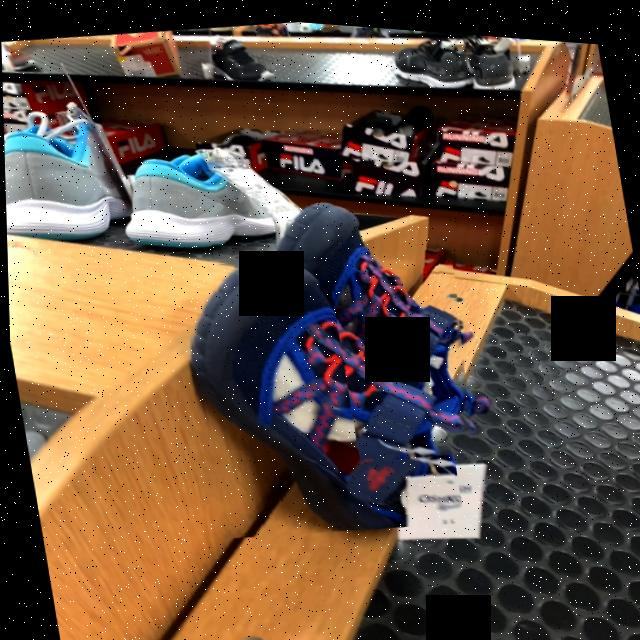shoe: (194, 258, 448, 525), (330, 243, 465, 451)
